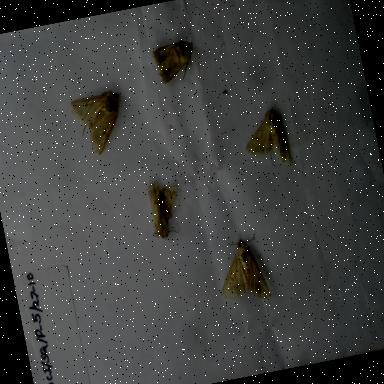abw: (206, 232, 276, 312), (64, 80, 132, 162), (234, 100, 304, 178), (135, 172, 191, 249), (147, 34, 205, 90)
